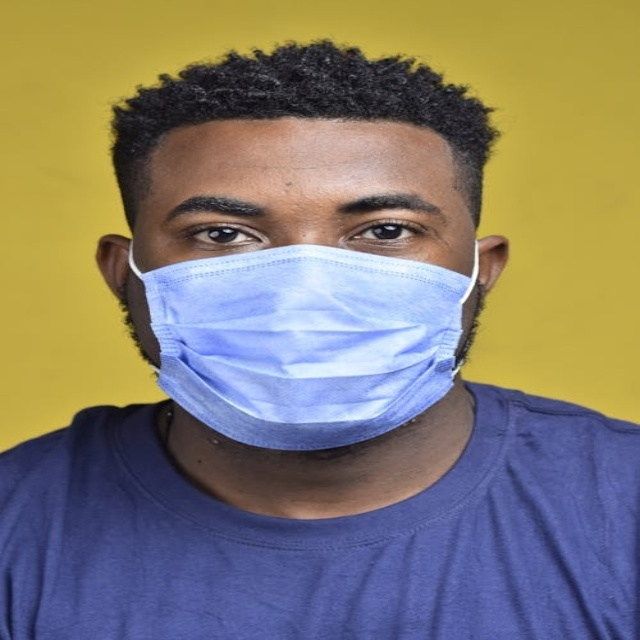Mascara: (130, 235, 478, 450)
Sin_gafas: (156, 183, 467, 261)
